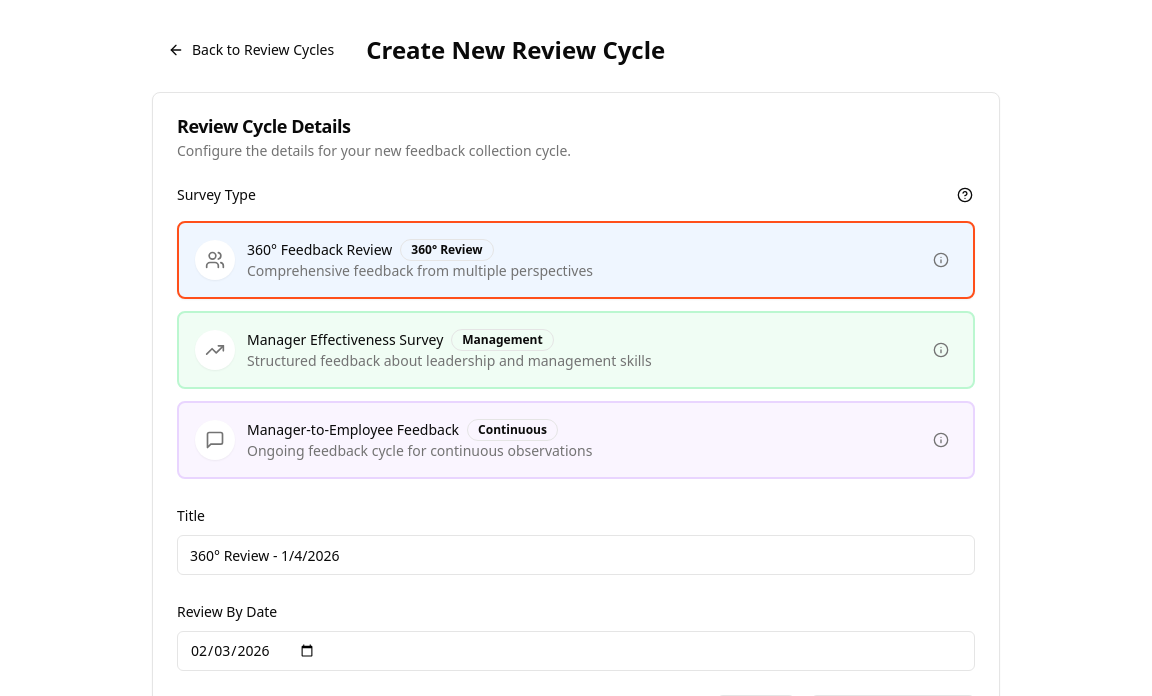
Scenario: NewReviewCyclePage › handles manager-to-employee selection correctly
The image size is (1152, 696).
Select manager-to-employee
Click the 3rd radio button named "Manager-to-Employee Feedback" at (184,408), box [176,400,192,416]
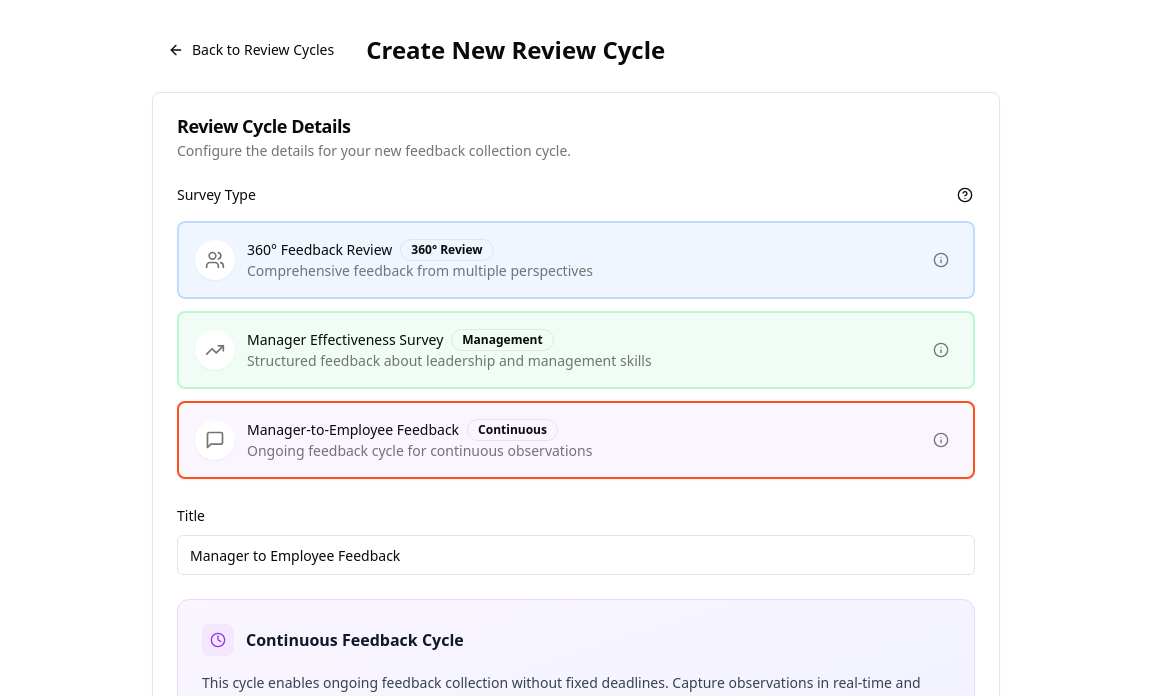
Check: the 3rd radio button named "Manager-to-Employee Feedback" is checked, box [176,400,192,416]
Check: the field showing "Manager to Employee Feedback" is shown, box [177,535,975,575]
Check: the label labelled "Review By Date" is gone
